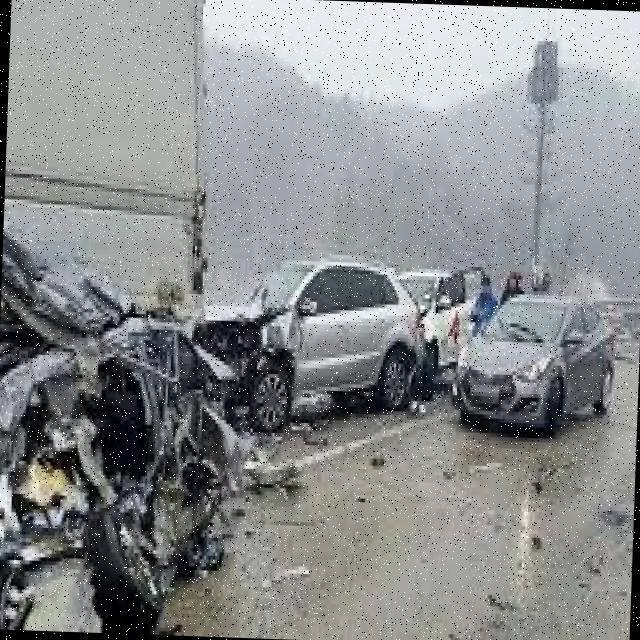accident: (0, 191, 316, 538)
